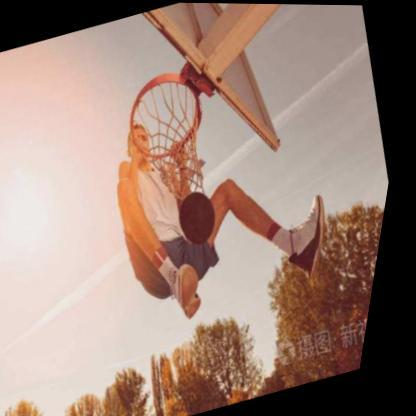basketball: (111, 63, 234, 210)
